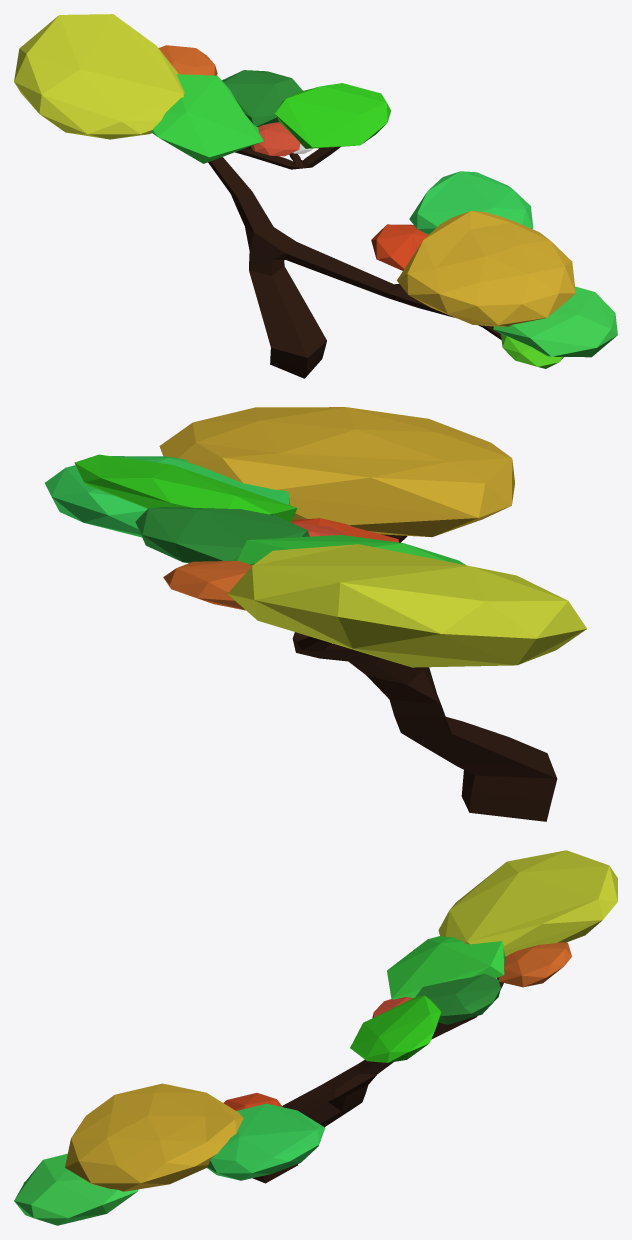
The model's file is tree1.obj.
3 renders of one model, top to bottom at view 1: azimuth 30°, elevation 25°; view 2: azimuth 150°, elevation 25°; view 3: azimuth 270°, elevation 25°, orthographic. The views are drawn at different scales.
Parts seen in each view (by area): view 1: Icosphere.003, Icosphere.006, Cube, Icosphere.004, Icosphere, Icosphere.009, Icosphere.007, Icosphere.001, Icosphere.008, Icosphere.005, Icosphere.002, Icosphere.010; view 2: Icosphere.006, Icosphere.003, Cube, Icosphere, Icosphere.001, Icosphere.007, Icosphere.005, Icosphere.004, Icosphere.008; view 3: Icosphere.006, Icosphere.003, Icosphere.007, Icosphere.009, Icosphere.004, Icosphere, Cube, Icosphere.001, Icosphere.005, Icosphere.008.
Boxes of the visible parts, bbox=[...] form: Icosphere.003: bbox=[14, 14, 184, 139]; Icosphere.006: bbox=[397, 211, 575, 326]; Cube: bbox=[208, 146, 501, 378]; Icosphere.004: bbox=[151, 74, 263, 163]; Icosphere: bbox=[274, 83, 390, 148]; Icosphere.009: bbox=[493, 286, 617, 357]; Icosphere.007: bbox=[409, 171, 533, 234]; Icosphere.001: bbox=[222, 70, 302, 126]; Icosphere.008: bbox=[371, 224, 428, 270]; Icosphere.005: bbox=[158, 45, 217, 75]; Icosphere.002: bbox=[251, 122, 300, 156]; Icosphere.010: bbox=[501, 334, 563, 368]; Icosphere.006: bbox=[159, 407, 514, 537]; Icosphere.003: bbox=[227, 544, 586, 667]; Cube: bbox=[292, 534, 557, 821]; Icosphere: bbox=[74, 454, 297, 522]; Icosphere.001: bbox=[135, 507, 309, 563]; Icosphere.007: bbox=[45, 456, 289, 537]; Icosphere.005: bbox=[163, 560, 252, 610]; Icosphere.004: bbox=[237, 535, 465, 565]; Icosphere.008: bbox=[291, 518, 398, 542]; Icosphere.006: bbox=[65, 1083, 243, 1191]; Icosphere.003: bbox=[438, 850, 617, 956]; Icosphere.007: bbox=[207, 1103, 325, 1180]; Icosphere.009: bbox=[14, 1153, 138, 1225]; Icosphere.004: bbox=[387, 936, 505, 999]; Icosphere: bbox=[350, 995, 441, 1062]; Cube: bbox=[253, 977, 503, 1183]; Icosphere.001: bbox=[416, 974, 500, 1024]; Icosphere.005: bbox=[498, 942, 571, 987]; Icosphere.008: bbox=[223, 1093, 282, 1110].
Bounding box in the file's own units: 6.99 × 4.55 × 9.18.
